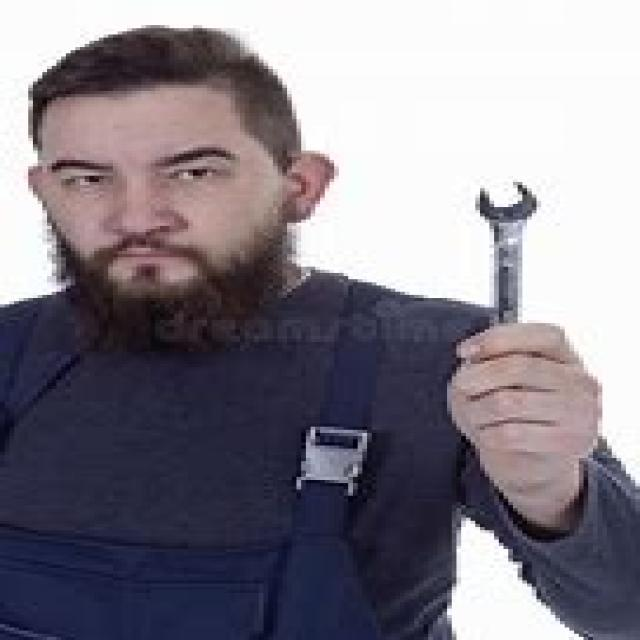wrench: (463, 176, 551, 324)
